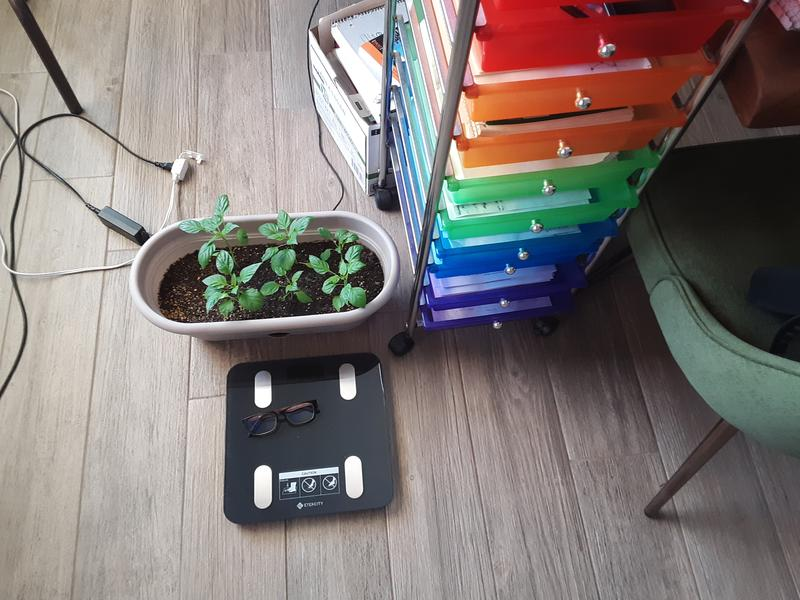glasses: (243, 397, 323, 441)
